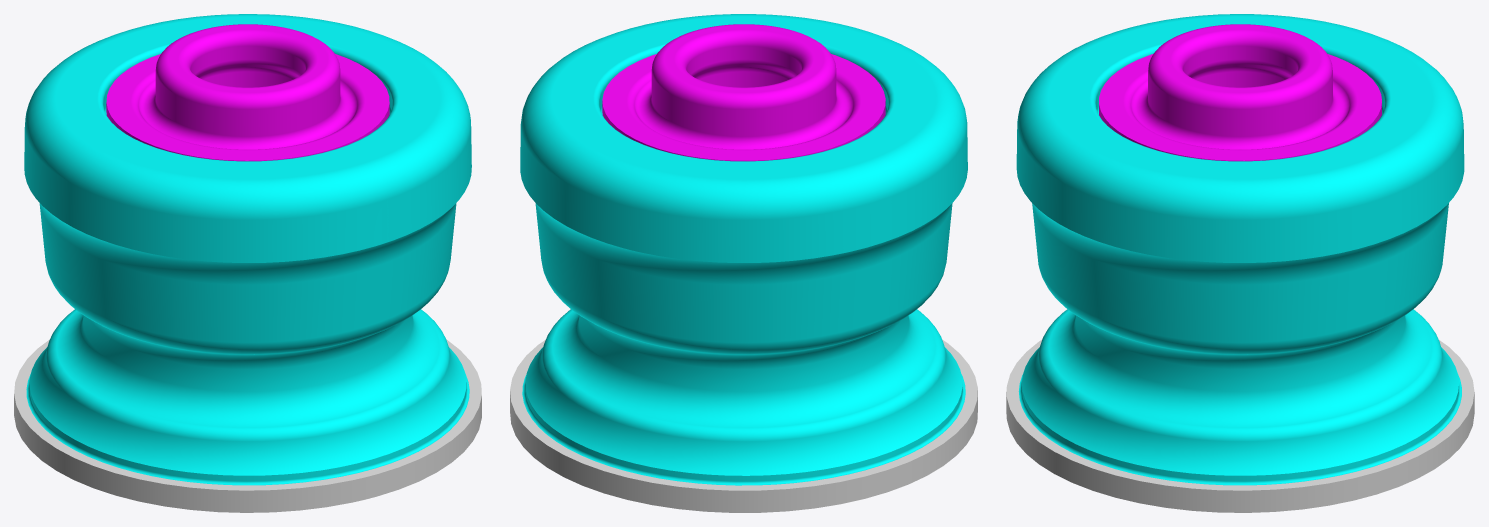
3 renders of one model, left to right at view 1: azimuth 30°, elevation 25°; view 2: azimuth 150°, elevation 25°; view 3: azimuth 270°, elevation 25°, orthographic.
Parts seen in each view (by area): view 1: 7TA456-01(___)-1, 7TA456-02-1-1, 7T8209-11(______)-1; view 2: 7TA456-01(___)-1, 7TA456-02-1-1, 7T8209-11(______)-1; view 3: 7TA456-01(___)-1, 7TA456-02-1-1, 7T8209-11(______)-1.
Part boxes in pixels (bbox=[...]): 7TA456-01(___)-1: bbox=[24, 14, 471, 485]; 7TA456-02-1-1: bbox=[106, 24, 389, 161]; 7T8209-11(______)-1: bbox=[14, 339, 481, 512]; 7TA456-01(___)-1: bbox=[520, 14, 967, 485]; 7TA456-02-1-1: bbox=[602, 24, 885, 161]; 7T8209-11(______)-1: bbox=[510, 340, 977, 512]; 7TA456-01(___)-1: bbox=[1016, 14, 1464, 485]; 7TA456-02-1-1: bbox=[1099, 24, 1381, 161]; 7T8209-11(______)-1: bbox=[1006, 340, 1474, 512].
Size of the model in its own units: 0.076 by 0.0636 by 0.076.
